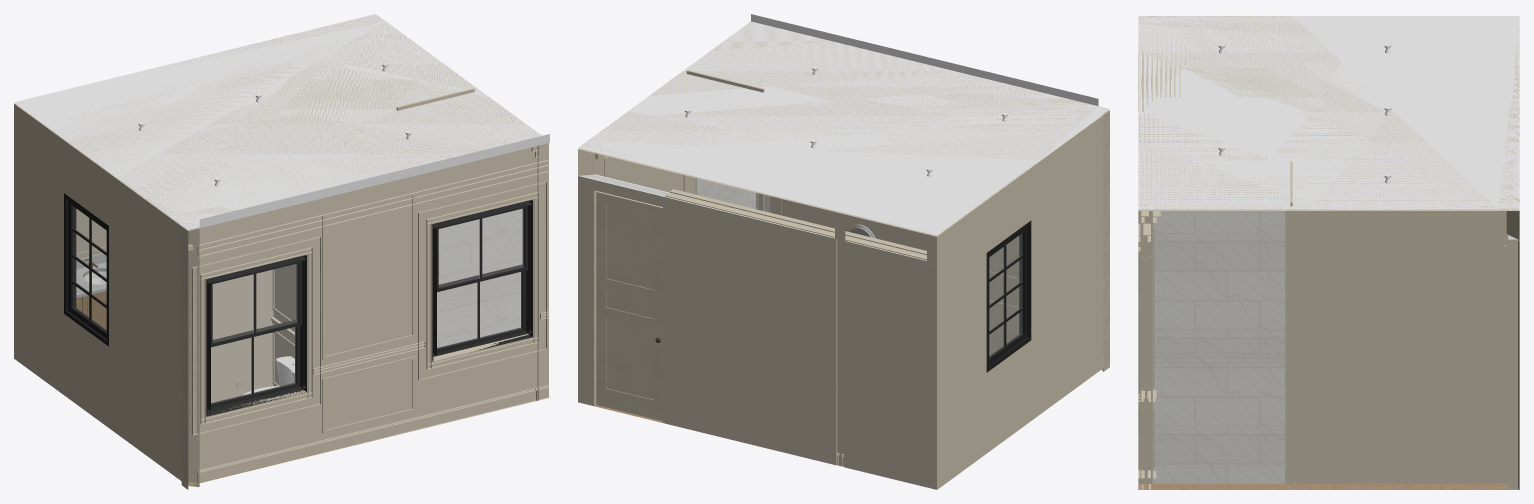
Rendered from primary-bath-865c3dcdb1ea.glb.
The picture shows the model from 3 angles, left to right: view 1: azimuth 30°, elevation 25°; view 2: azimuth 150°, elevation 25°; view 3: azimuth 270°, elevation 25°; orthographic projection. The views are drawn at different scales.
Visible parts, largest first — view 1: primary-bath-9d91b47435c6fb33, primary-bath-b0ade14315e4f1c3, primary-bath-c51ecd664a3b22a3, primary-bath-e8793759323e04f0, primary-bath-60f0db96f832035a, primary-bath-b5cb73c07919def8, primary-bath-10eba734bfa580f9, primary-bath-20932135983111ad, primary-bath-f16673f3b541985d, primary-bath-ef64d5096d209f6d, primary-bath-b5339e4b2b15762b, primary-bath-62353aa10fc57f23 (+14 smaller); view 2: primary-bath-9ecc0d558be1c706, primary-bath-9d91b47435c6fb33, primary-bath-c51ecd664a3b22a3, primary-bath-e8793759323e04f0, primary-bath-18f70a4a9eda5dac, primary-bath-20932135983111ad, primary-bath-25ea03c5717987c5, primary-bath-e48b5483df8cacdb, primary-bath-fc6585fecfaf7ec3, primary-bath-62353aa10fc57f23, primary-bath-1a6c50e4c3accb7b, primary-bath-b88ac105ef7c3bdb (+4 smaller); view 3: primary-bath-9d91b47435c6fb33, primary-bath-fc6585fecfaf7ec3, primary-bath-3d8660a29b1e398e, primary-bath-e8793759323e04f0, primary-bath-2bc0761cc32b9613, primary-bath-c791a0f218fead78, primary-bath-9ecc0d558be1c706, primary-bath-343da8f45fc39332, primary-bath-b3dc771ed6f89851, primary-bath-2575515a05775d9e, primary-bath-38b306e83be12a4b, primary-bath-2524bad2f0b4651d (+6 smaller).
Boxes of the visible parts, left/top/right/bottom form: primary-bath-9d91b47435c6fb33: left=14, top=14, right=549, bottom=230; primary-bath-b0ade14315e4f1c3: left=199, top=143, right=548, bottom=479; primary-bath-c51ecd664a3b22a3: left=14, top=103, right=181, bottom=480; primary-bath-e8793759323e04f0: left=61, top=16, right=549, bottom=229; primary-bath-60f0db96f832035a: left=206, top=255, right=306, bottom=416; primary-bath-b5cb73c07919def8: left=432, top=200, right=532, bottom=360; primary-bath-10eba734bfa580f9: left=215, top=269, right=273, bottom=401; primary-bath-20932135983111ad: left=64, top=193, right=108, bottom=346; primary-bath-f16673f3b541985d: left=437, top=208, right=522, bottom=297; primary-bath-ef64d5096d209f6d: left=197, top=385, right=549, bottom=483; primary-bath-b5339e4b2b15762b: left=197, top=159, right=549, bottom=257; primary-bath-62353aa10fc57f23: left=181, top=226, right=199, bottom=489; primary-bath-9ecc0d558be1c706: left=578, top=174, right=935, bottom=489; primary-bath-9d91b47435c6fb33: left=578, top=21, right=1109, bottom=236; primary-bath-c51ecd664a3b22a3: left=927, top=115, right=1103, bottom=489; primary-bath-e8793759323e04f0: left=581, top=14, right=1104, bottom=170; primary-bath-18f70a4a9eda5dac: left=596, top=191, right=662, bottom=421; primary-bath-20932135983111ad: left=986, top=220, right=1031, bottom=372; primary-bath-25ea03c5717987c5: left=989, top=235, right=1019, bottom=355; primary-bath-e48b5483df8cacdb: left=835, top=212, right=845, bottom=467; primary-bath-fc6585fecfaf7ec3: left=578, top=149, right=693, bottom=193; primary-bath-62353aa10fc57f23: left=1102, top=110, right=1109, bottom=371; primary-bath-1a6c50e4c3accb7b: left=770, top=196, right=892, bottom=242; primary-bath-b88ac105ef7c3bdb: left=592, top=188, right=664, bottom=423; primary-bath-9d91b47435c6fb33: left=1138, top=16, right=1519, bottom=210; primary-bath-fc6585fecfaf7ec3: left=1292, top=209, right=1519, bottom=489; primary-bath-3d8660a29b1e398e: left=1152, top=211, right=1284, bottom=351; primary-bath-e8793759323e04f0: left=1138, top=16, right=1519, bottom=209; primary-bath-2bc0761cc32b9613: left=1152, top=366, right=1284, bottom=483; primary-bath-c791a0f218fead78: left=1138, top=209, right=1290, bottom=489; primary-bath-9ecc0d558be1c706: left=1506, top=234, right=1518, bottom=489; primary-bath-343da8f45fc39332: left=1296, top=470, right=1498, bottom=483; primary-bath-b3dc771ed6f89851: left=1308, top=224, right=1486, bottom=382; primary-bath-2575515a05775d9e: left=1138, top=484, right=1518, bottom=489; primary-bath-38b306e83be12a4b: left=1152, top=351, right=1284, bottom=366; primary-bath-2524bad2f0b4651d: left=1308, top=403, right=1486, bottom=462.
Bounding box in the file's own units: 4.3 × 3.04 × 3.59.
30 materials, 9 textured.
